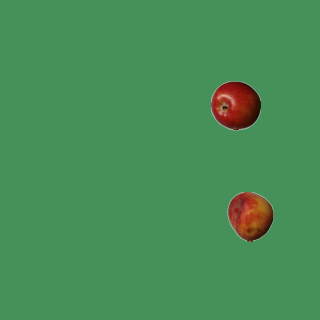Apple Braeburn: (210, 80, 260, 130)
Peach: (225, 191, 275, 241)
